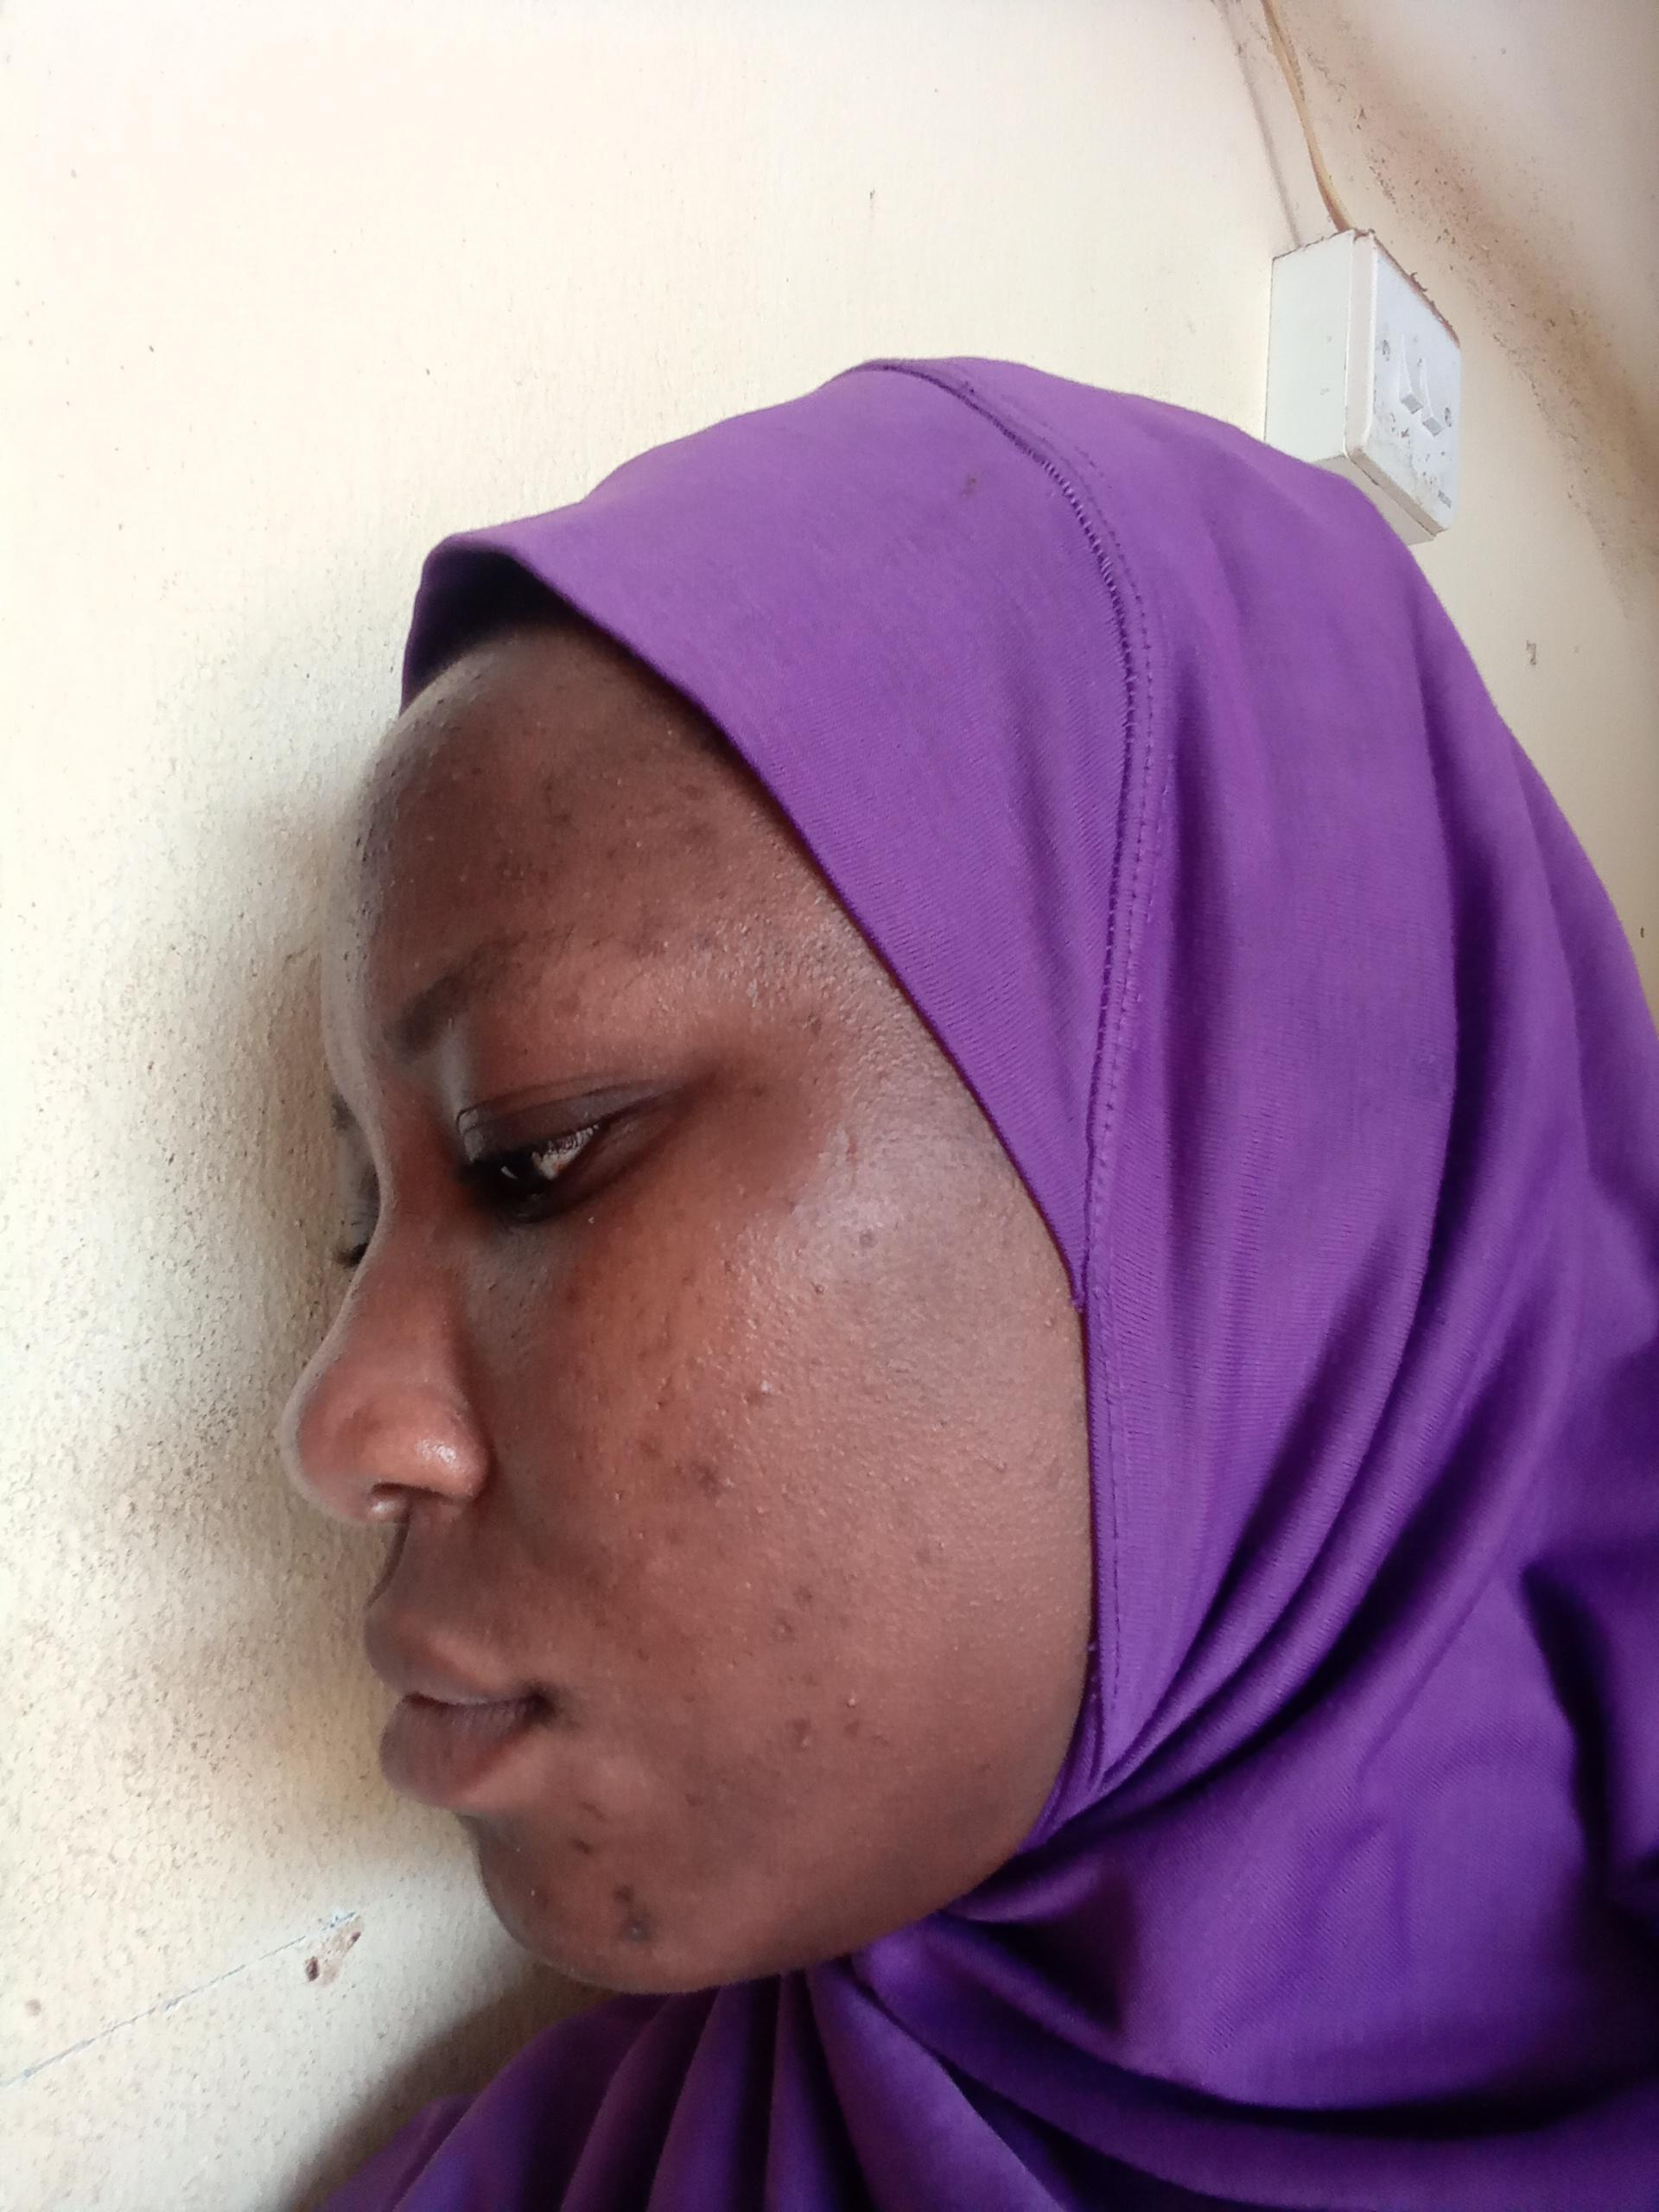Acne: (605, 768, 657, 855), (606, 1885, 671, 1951), (523, 765, 580, 838), (641, 1303, 692, 1371), (457, 852, 523, 897), (680, 1458, 742, 1505), (744, 1353, 793, 1409), (430, 693, 504, 726), (565, 1815, 606, 1871), (908, 1536, 958, 1578), (829, 1686, 870, 1738), (636, 1386, 699, 1420), (786, 1712, 826, 1761), (512, 1878, 554, 1921), (357, 829, 403, 867), (427, 765, 476, 799), (1030, 1306, 1075, 1343), (371, 758, 408, 799), (760, 1608, 803, 1642), (368, 871, 423, 897), (655, 719, 699, 752), (633, 1426, 671, 1463), (406, 951, 443, 989), (718, 1252, 756, 1285), (802, 1270, 838, 1303), (850, 1224, 887, 1258), (669, 1261, 704, 1291), (676, 1785, 713, 1813), (802, 1015, 831, 1045), (411, 826, 446, 846)
